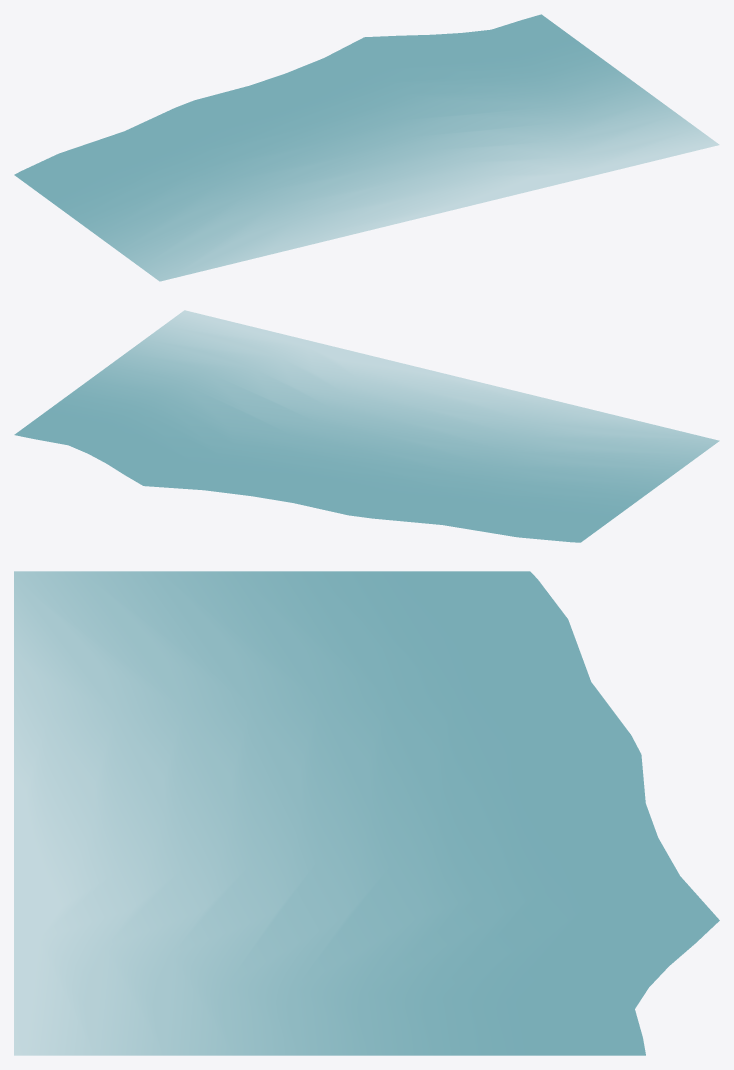
3 renders of one model, top to bottom at view 1: azimuth 30°, elevation 25°; view 2: azimuth 150°, elevation 25°; view 3: azimuth 270°, elevation 25°, orthographic. The views are drawn at different scales.
Visible parts, largest first — view 1: city; view 2: city; view 3: city.
Part boxes in pixels (bbox=[...]): city: bbox=[14, 14, 718, 281]; city: bbox=[14, 310, 719, 542]; city: bbox=[14, 571, 719, 1055].
Size of the model in its own units: 500 by 0 by 308.
